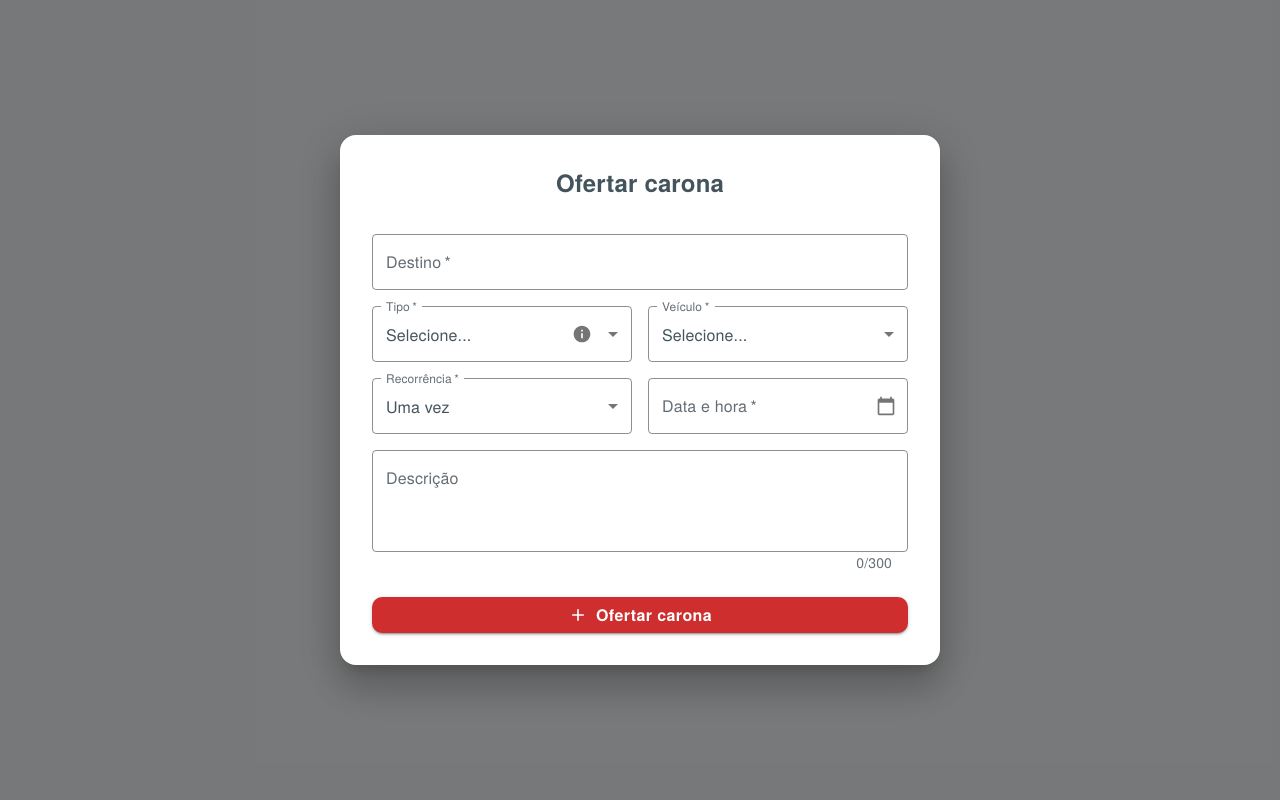
it: RideFormDialog › should suggest only the Fatec on focus to whoever has no neighborhood in the profile
The image size is (1280, 800).
Expected: the heading "Ofertar carona" is shown, [556,165,724,199]
What coordinates should you click on to do the following:
click the dropdown labelled "Destino *"
I would click on:
 (640, 262)
Its box is [381,243,899,281].
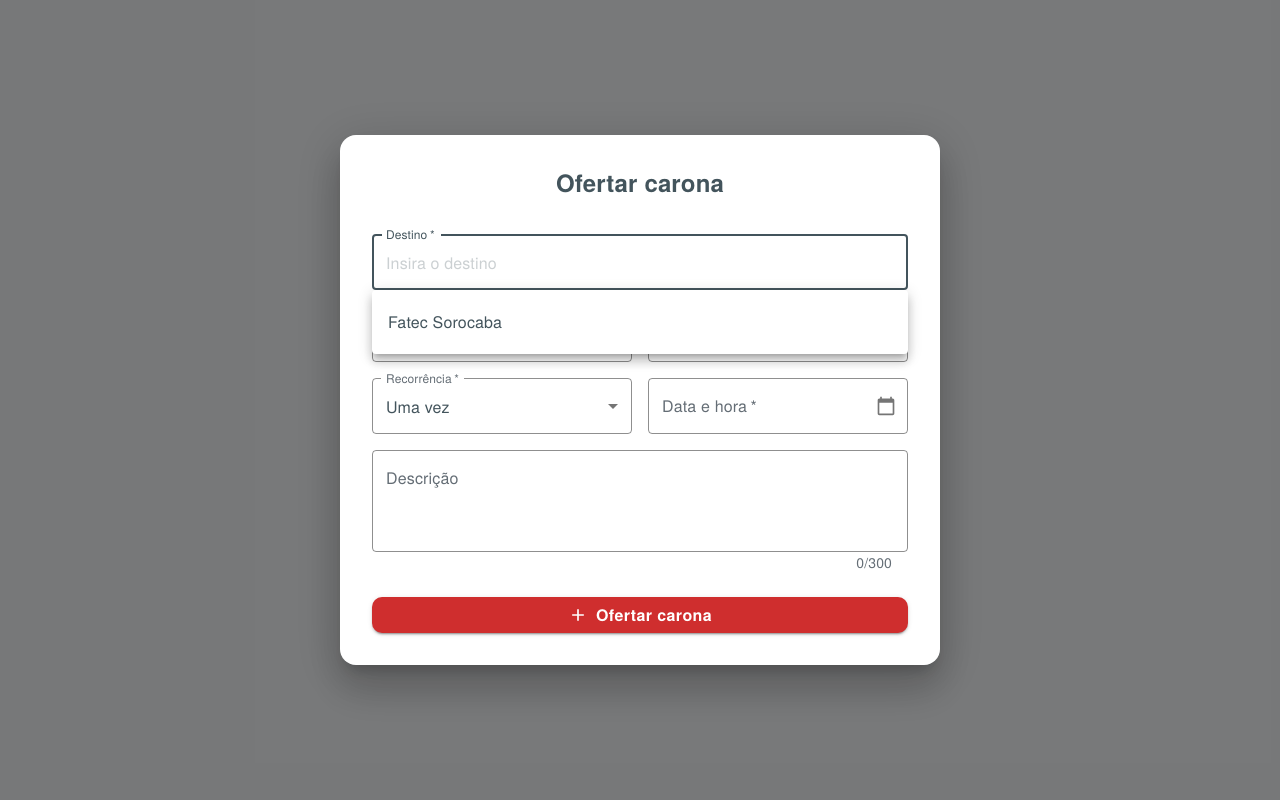
Expected: the number of options is 1, [388,310,502,333]
